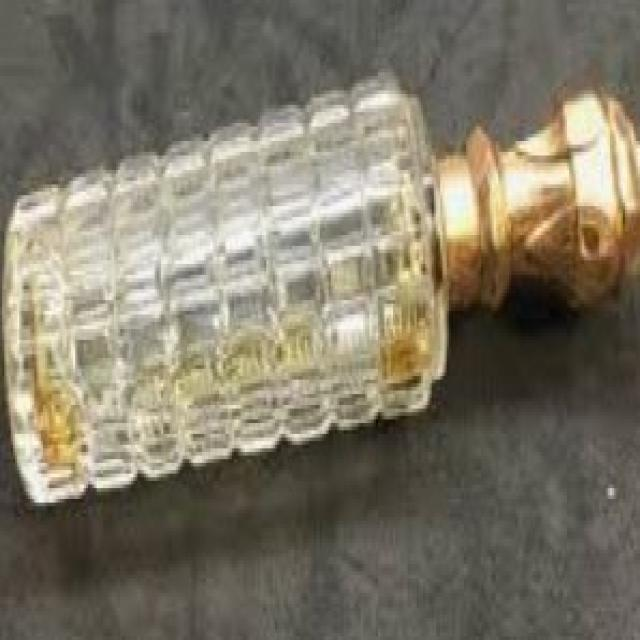electronic: (4, 64, 640, 505)
